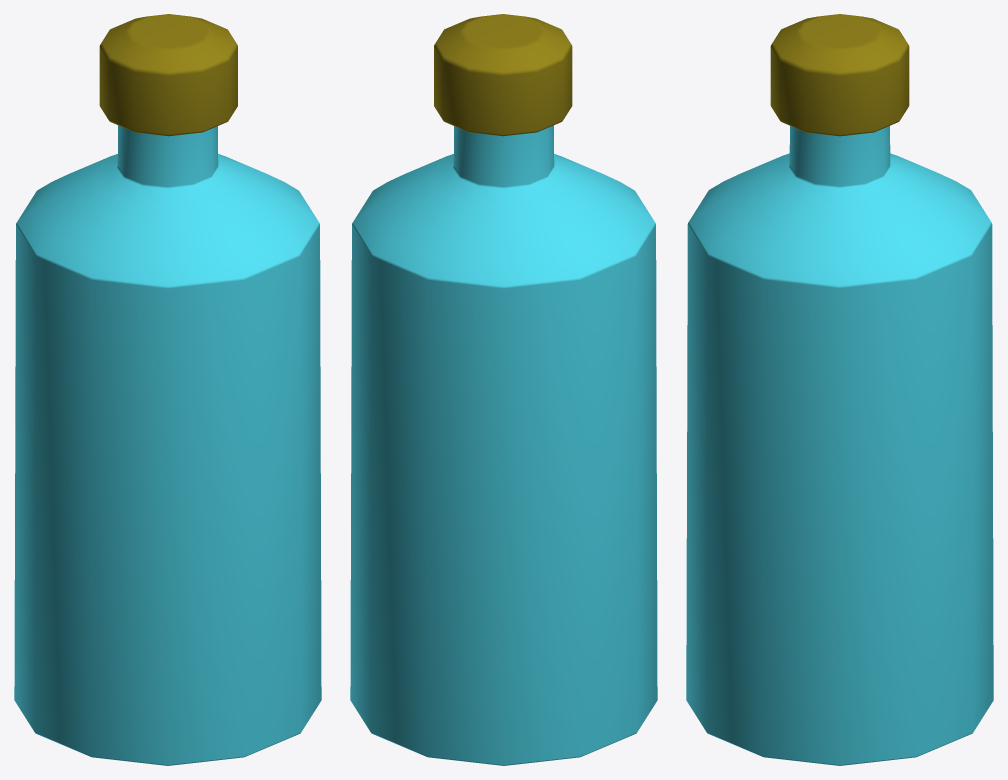
File: potion11.FBX
3 renders of one model, left to right at view 1: azimuth 30°, elevation 25°; view 2: azimuth 150°, elevation 25°; view 3: azimuth 270°, elevation 25°, orthographic.
Parts seen in each view (by area): view 1: potion_11glass; view 2: potion_11glass; view 3: potion_11glass.
Part boxes in pixels (x1,y1,x2,y2): potion_11glass: (14,14,321,765); potion_11glass: (350,14,657,765); potion_11glass: (686,14,993,765).
Size of the model in its own units: 20.16 by 49.41 by 20.16.
